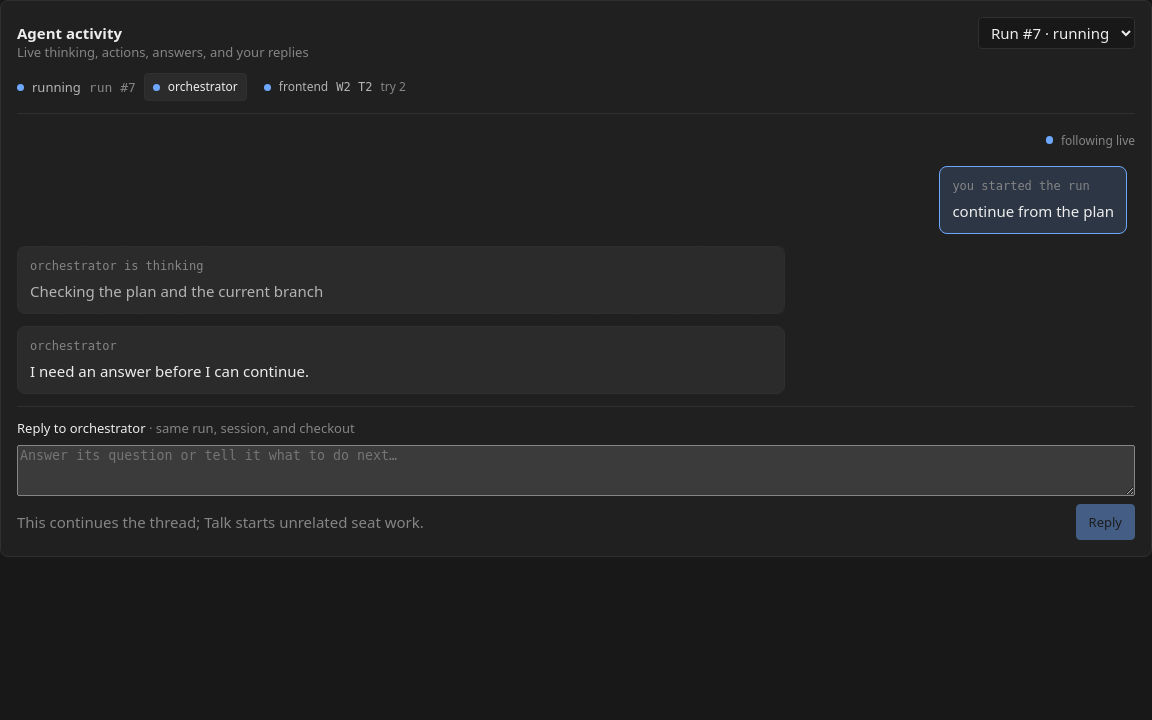
Test: replies to the node in the selected run and checkout
This screenshot has width=1152, height=720.
Type "Yes, continue with E5.3." into the text box labelled "Reply to orchestrator · same run, session, and checkout" at x=576, y=470, box [17,445,1135,496]
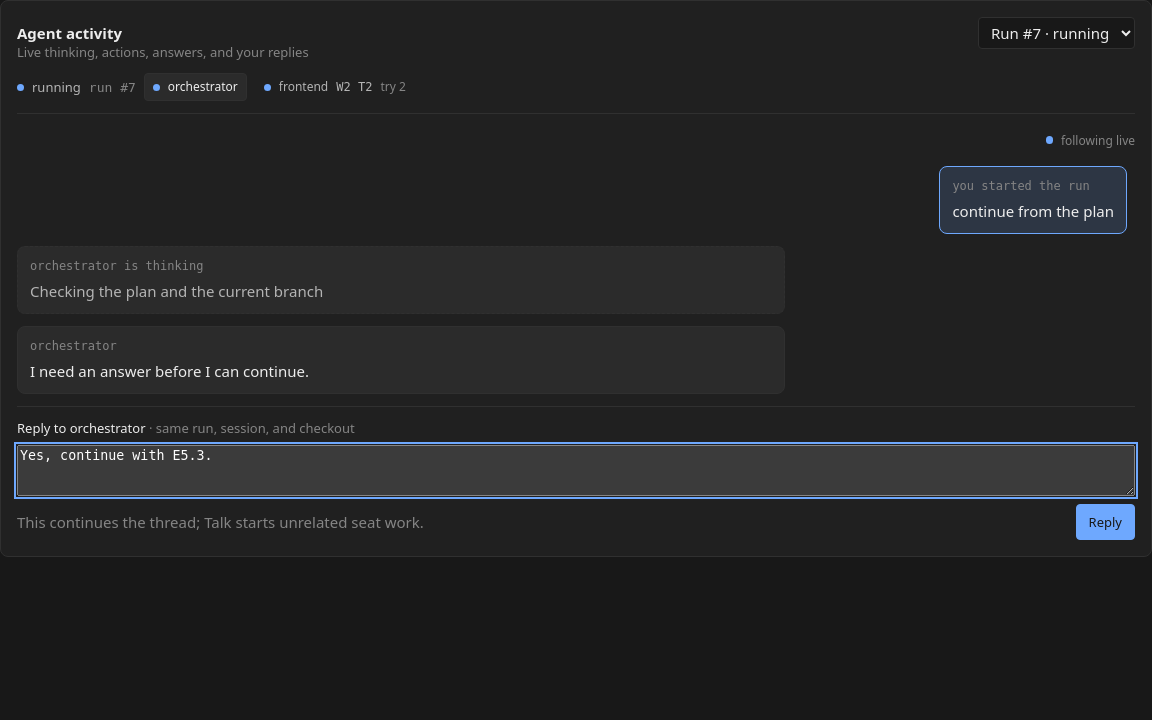
Click the button "Reply" at x=1105, y=522, box [1076,504,1135,540]
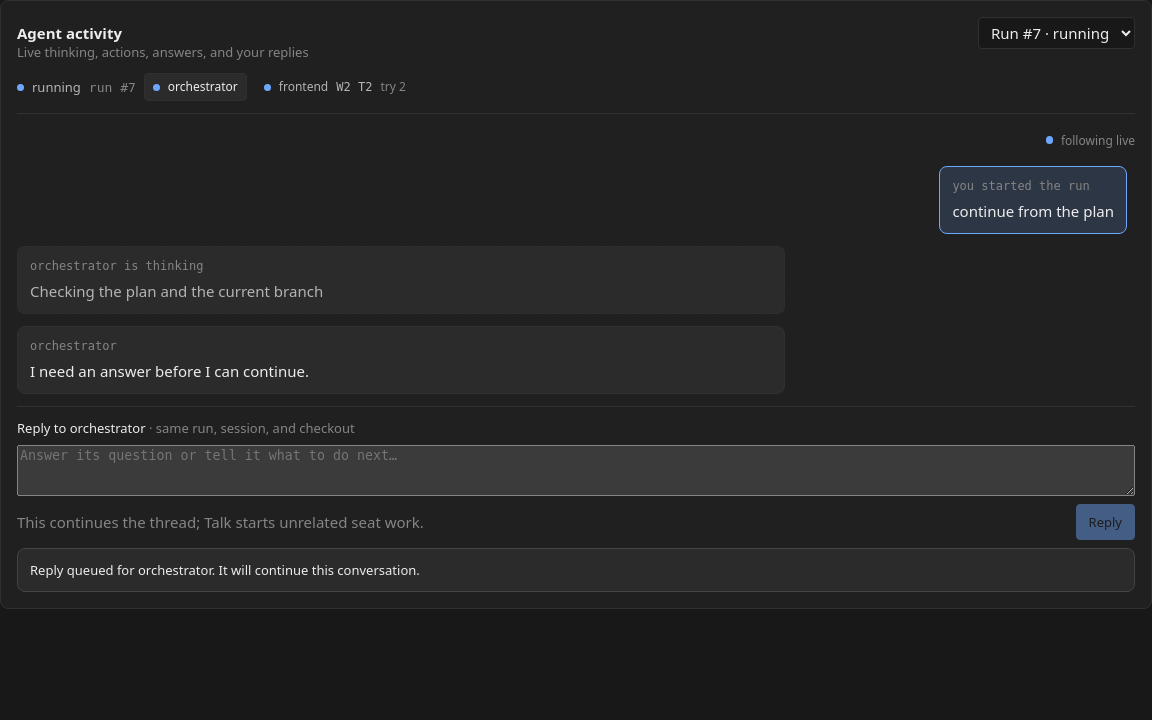
Result: the text "continue this conversation" is shown at [30,561,420,579]
